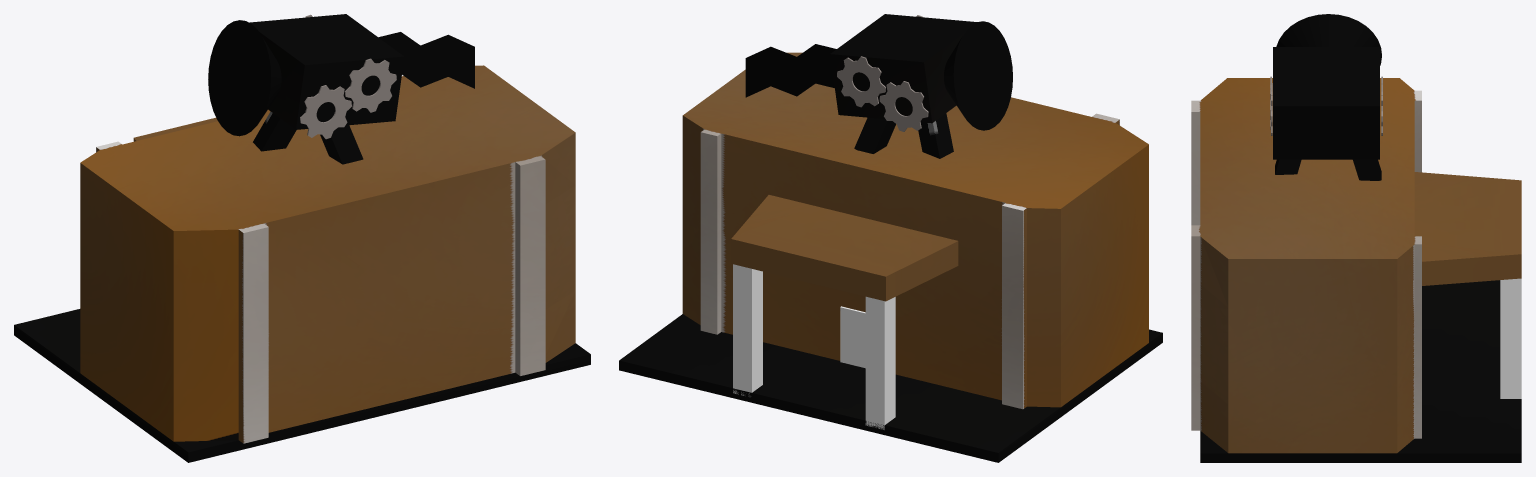
The model's file is MovieTheatre.obj.
3 renders of one model, left to right at view 1: azimuth 30°, elevation 25°; view 2: azimuth 150°, elevation 25°; view 3: azimuth 270°, elevation 25°, orthographic. The views are drawn at different scales.
Visible parts, largest first — view 1: 建物; view 2: 建物; view 3: 建物.
Part boxes in pixels (<box>): 建物: <box>14,14,590,462</box>; 建物: <box>619,14,1162,462</box>; 建物: <box>1191,14,1521,462</box>.
Size of the model in its own units: 40 by 34.93 by 30.85.
1 material, 1 textured.
